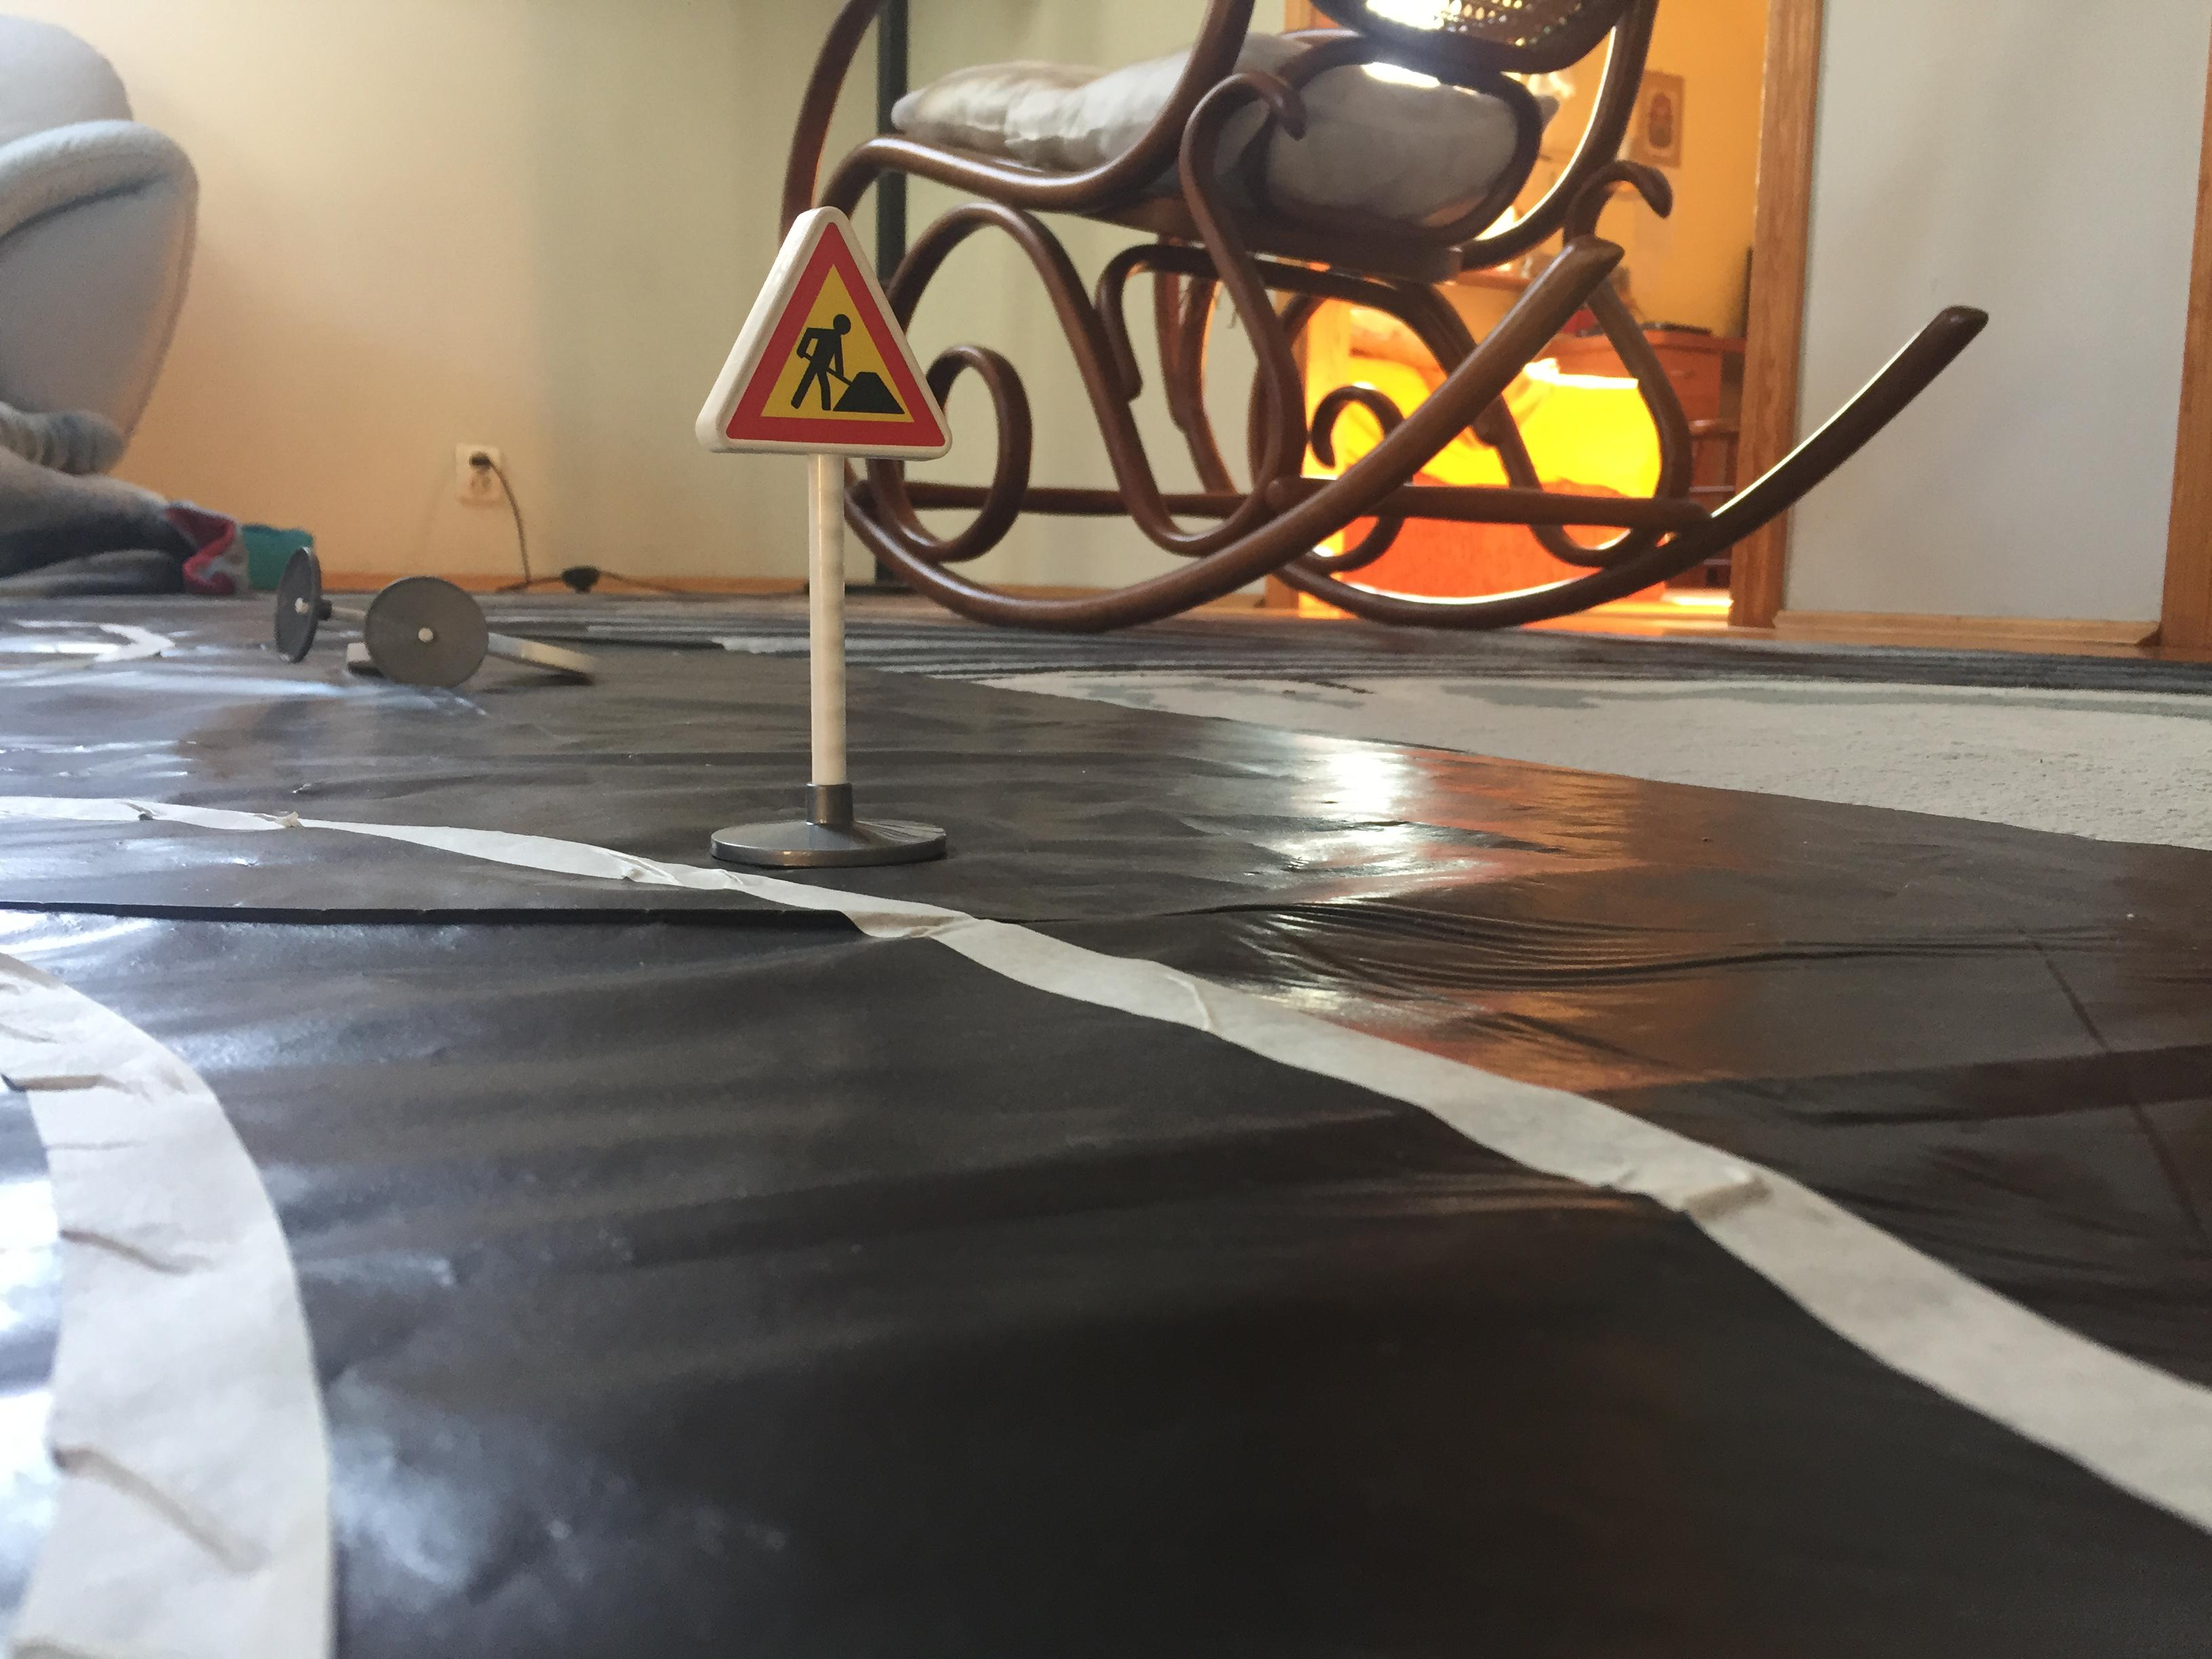work: (688, 188, 975, 467)
